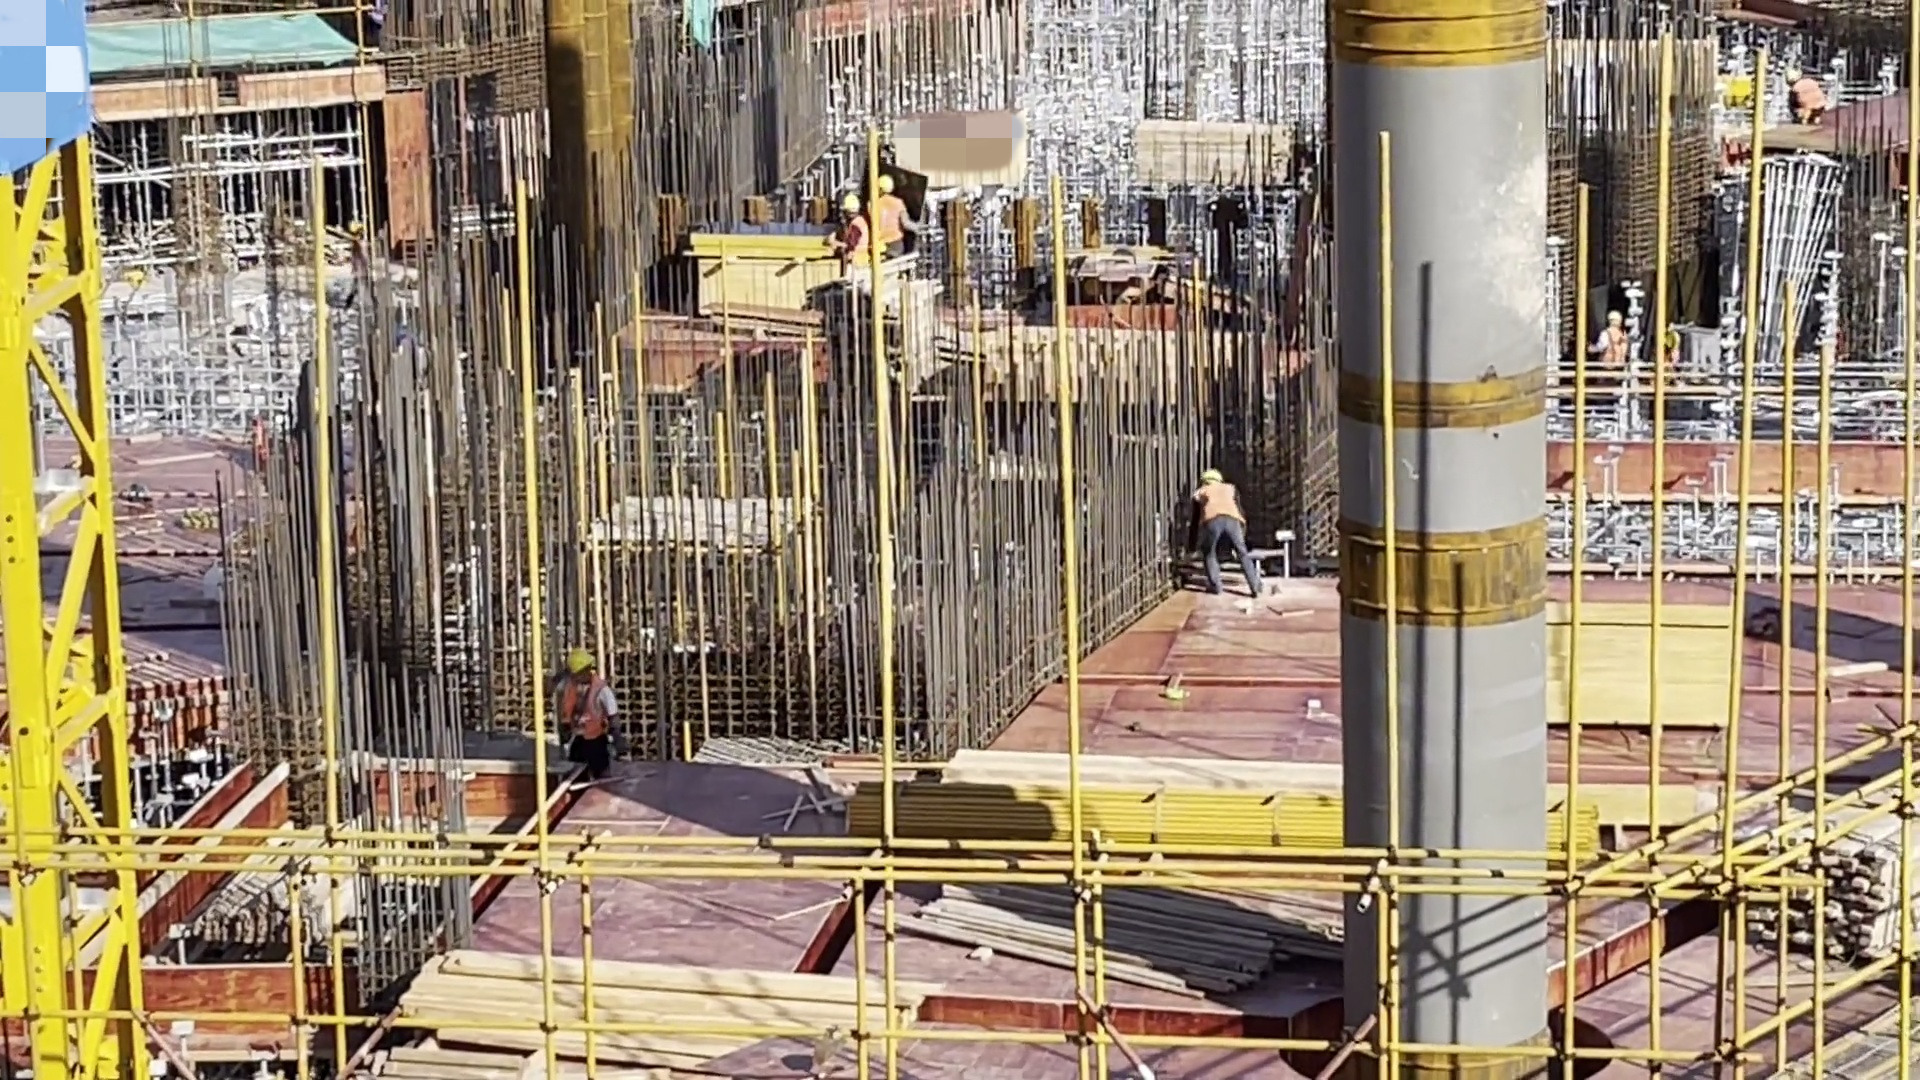helmet: (570, 645, 595, 679), (841, 190, 861, 217), (876, 174, 902, 194), (1201, 466, 1227, 485), (1785, 68, 1809, 87), (1606, 308, 1623, 327)
person: (1190, 463, 1263, 602), (554, 644, 623, 772), (865, 172, 918, 268), (831, 193, 870, 279), (1783, 65, 1826, 131), (1593, 311, 1631, 374)
vest: (555, 673, 617, 750), (1197, 478, 1252, 539), (870, 198, 916, 252), (846, 217, 876, 273)
